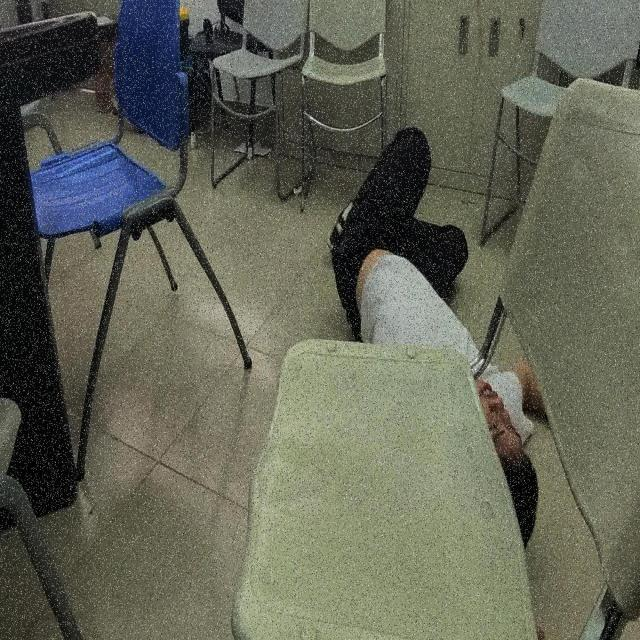fall: (328, 122, 565, 639)
